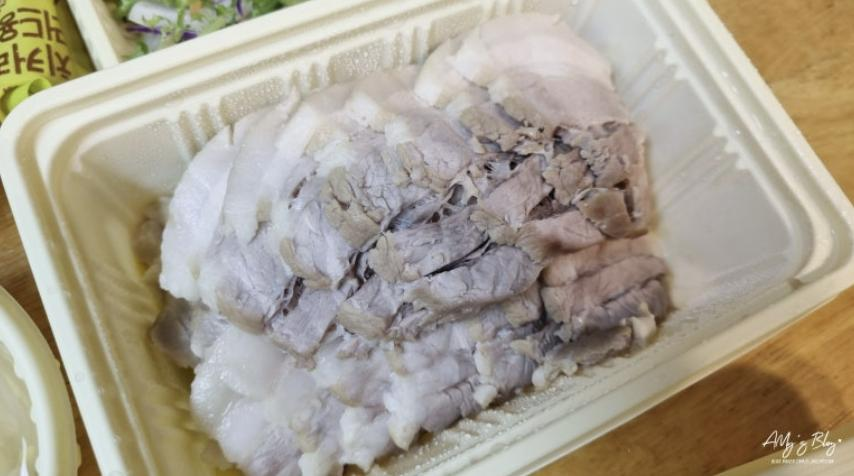Bottle: (0, 0, 92, 122)
Lunch Box: (0, 0, 853, 475), (68, 0, 302, 69), (0, 286, 78, 475)
